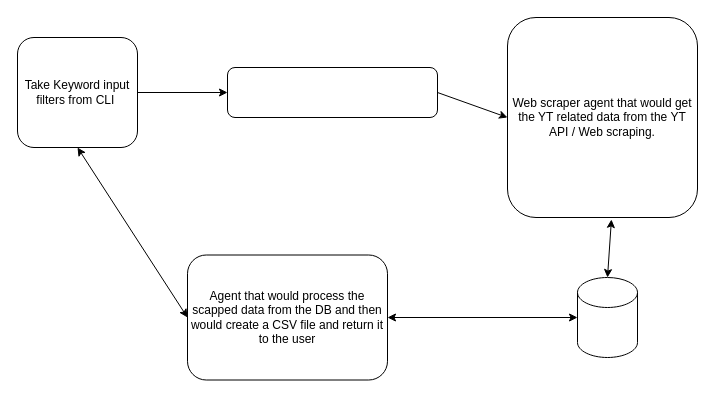
This 715x398 diagram has some shape labels left out. Each missing label, with the centre of its shape:
"DB" goes at pixel 607 317.
"QUEUE" goes at pixel 332 92.
